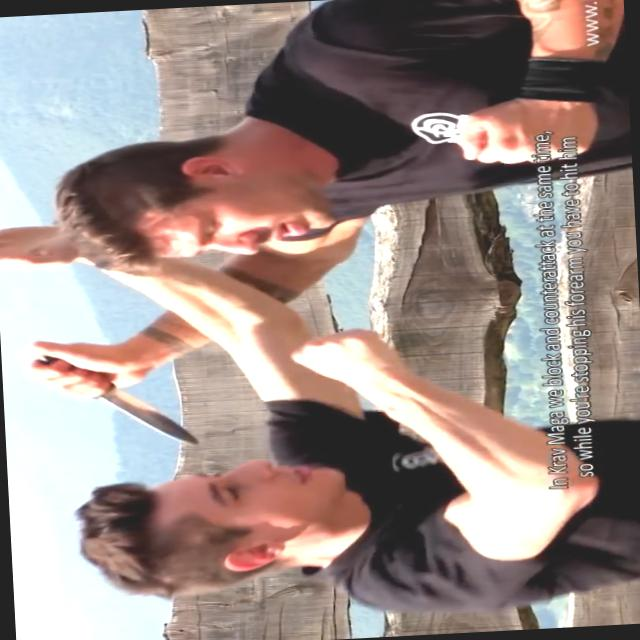knife: (15, 328, 206, 458)
